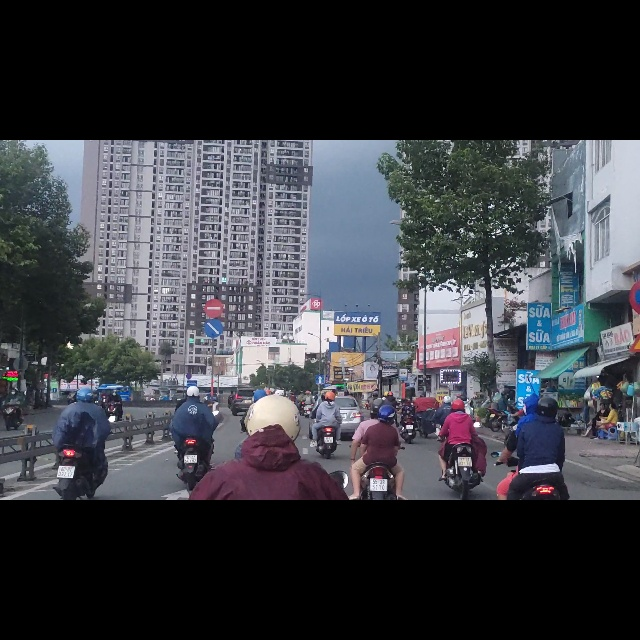bien_hieu_lenh: (202, 318, 225, 352), (630, 236, 640, 308), (205, 282, 223, 316), (398, 406, 408, 428), (315, 417, 325, 435)
